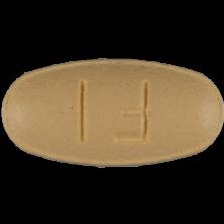0074-6122: (0, 0, 224, 224)
